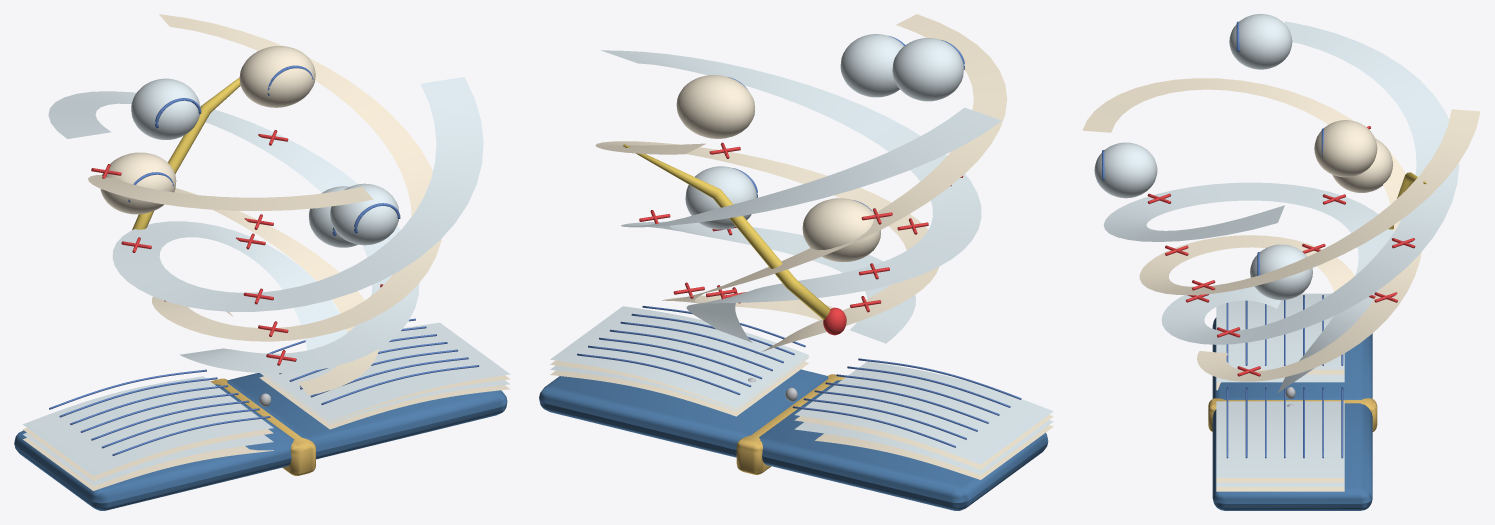
The model's file is X05_Homework_Paper_Galaxy.glb.
3 views of the same model, side by side, from view 1: azimuth 30°, elevation 25°; view 2: azimuth 150°, elevation 25°; view 3: azimuth 270°, elevation 25° (orthographic). The views are drawn at different scales.
Visible parts, largest first — view 1: X05_PAPER_GALAXY_ACTOR | Blue-white answer sheets, X05_PAPER_GALAXY_ACTOR | Study paper acid-free warm cream, X05_BOOK_ACTOR | Blue-white answer sheets, X05_BOOK_ACTOR | Embossed hardback indigo school notebook, X05_BOOK_ACTOR | Study paper acid-free warm cream, X05_BOOK_ACTOR | Blue ink handwriting strokes, X05 physical thick notebook spine, X05 sharpened cedar pencil orbital, X05_PAPER_GALAXY_ACTOR | Scarlet crossed-out corrections, X05_PAPER_GALAXY_ACTOR | Blue ink handwriting strokes; view 2: X05_PAPER_GALAXY_ACTOR | Blue-white answer sheets, X05_BOOK_ACTOR | Blue-white answer sheets, X05_PAPER_GALAXY_ACTOR | Study paper acid-free warm cream, X05_BOOK_ACTOR | Embossed hardback indigo school notebook, X05_BOOK_ACTOR | Blue ink handwriting strokes, X05_BOOK_ACTOR | Study paper acid-free warm cream, X05 sharpened cedar pencil orbital, X05 physical thick notebook spine, X05_PAPER_GALAXY_ACTOR | Scarlet crossed-out corrections; view 3: X05_PAPER_GALAXY_ACTOR | Blue-white answer sheets, X05_PAPER_GALAXY_ACTOR | Study paper acid-free warm cream, X05_BOOK_ACTOR | Blue-white answer sheets, X05_BOOK_ACTOR | Embossed hardback indigo school notebook, X05_BOOK_ACTOR | Blue ink handwriting strokes, X05_PAPER_GALAXY_ACTOR | Scarlet crossed-out corrections, X05_BOOK_ACTOR | Study paper acid-free warm cream, X05 physical thick notebook spine.
Part boxes in pixels (bbox=[...]): X05_PAPER_GALAXY_ACTOR | Blue-white answer sheets: bbox=[48, 77, 483, 373]; X05_PAPER_GALAXY_ACTOR | Study paper acid-free warm cream: bbox=[88, 14, 441, 395]; X05_BOOK_ACTOR | Blue-white answer sheets: bbox=[23, 322, 510, 485]; X05_BOOK_ACTOR | Embossed hardback indigo school notebook: bbox=[14, 373, 507, 510]; X05_BOOK_ACTOR | Study paper acid-free warm cream: bbox=[23, 373, 510, 490]; X05_BOOK_ACTOR | Blue ink handwriting strokes: bbox=[49, 318, 479, 455]; X05 physical thick notebook spine: bbox=[210, 378, 315, 475]; X05 sharpened cedar pencil orbital: bbox=[132, 77, 240, 229]; X05_PAPER_GALAXY_ACTOR | Scarlet crossed-out corrections: bbox=[91, 130, 383, 365]; X05_PAPER_GALAXY_ACTOR | Blue ink handwriting strokes: bbox=[128, 65, 400, 235]; X05_PAPER_GALAXY_ACTOR | Blue-white answer sheets: bbox=[601, 34, 1001, 343]; X05_BOOK_ACTOR | Blue-white answer sheets: bbox=[550, 306, 1053, 474]; X05_PAPER_GALAXY_ACTOR | Study paper acid-free warm cream: bbox=[595, 14, 1007, 354]; X05_BOOK_ACTOR | Embossed hardback indigo school notebook: bbox=[539, 369, 1048, 510]; X05_BOOK_ACTOR | Blue ink handwriting strokes: bbox=[577, 306, 1021, 447]; X05_BOOK_ACTOR | Study paper acid-free warm cream: bbox=[550, 356, 1053, 479]; X05 sharpened cedar pencil orbital: bbox=[623, 144, 830, 319]; X05 physical thick notebook spine: bbox=[736, 374, 845, 474]; X05_PAPER_GALAXY_ACTOR | Scarlet crossed-out corrections: bbox=[639, 142, 963, 312]; X05_PAPER_GALAXY_ACTOR | Blue-white answer sheets: bbox=[1094, 14, 1459, 393]; X05_PAPER_GALAXY_ACTOR | Study paper acid-free warm cream: bbox=[1082, 78, 1480, 381]; X05_BOOK_ACTOR | Blue-white answer sheets: bbox=[1216, 293, 1344, 486]; X05_BOOK_ACTOR | Embossed hardback indigo school notebook: bbox=[1212, 317, 1372, 510]; X05_BOOK_ACTOR | Blue ink handwriting strokes: bbox=[1226, 295, 1343, 458]; X05_PAPER_GALAXY_ACTOR | Scarlet crossed-out corrections: bbox=[1147, 126, 1415, 376]; X05_BOOK_ACTOR | Study paper acid-free warm cream: bbox=[1216, 369, 1344, 491]; X05 physical thick notebook spine: bbox=[1208, 398, 1377, 431].
Bounding box in the file's own units: 1.94 × 1.78 × 1.77.
